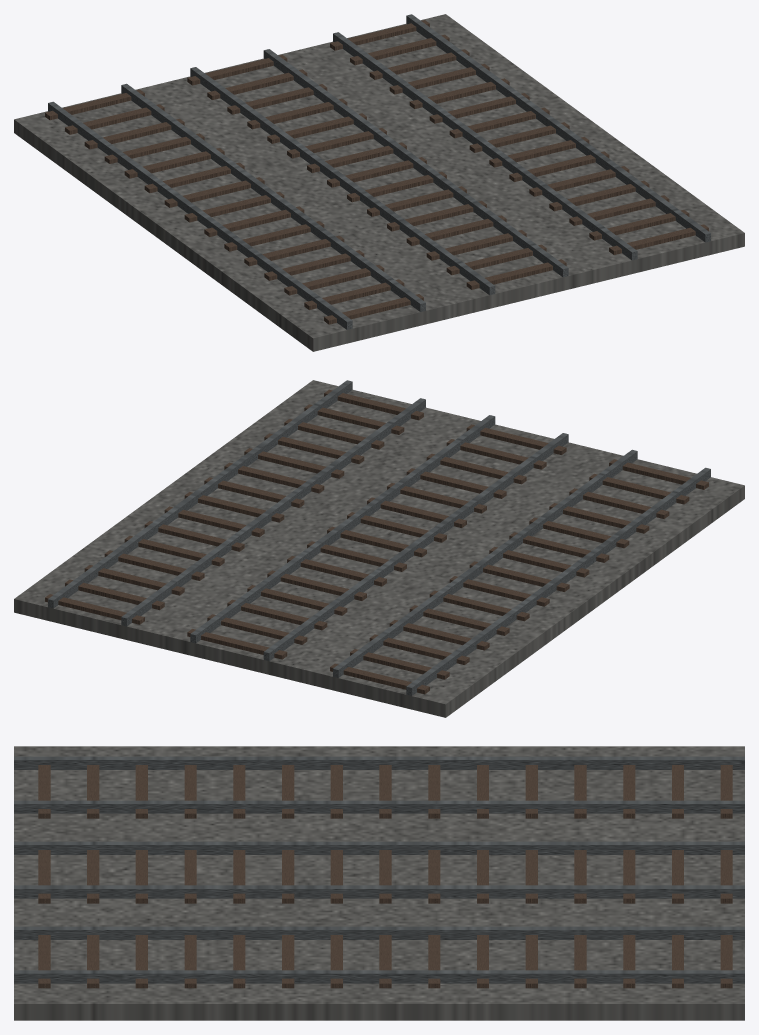
Rendered from urban_tile_lod2.glb.
The picture shows the model from 3 angles, top to bottom: view 1: azimuth 30°, elevation 25°; view 2: azimuth 150°, elevation 25°; view 3: azimuth 270°, elevation 25°; orthographic projection. The views are drawn at different scales.
Parts seen in each view (by area): view 1: world; view 2: world; view 3: world.
Part boxes in pixels (left/top/right/bottom): world: left=14, top=14, right=744, bottom=351; world: left=14, top=380, right=744, bottom=717; world: left=14, top=746, right=744, bottom=1020.
Size of the model in its own units: 10 by 0.48 by 12.
52 materials, 52 textured.
